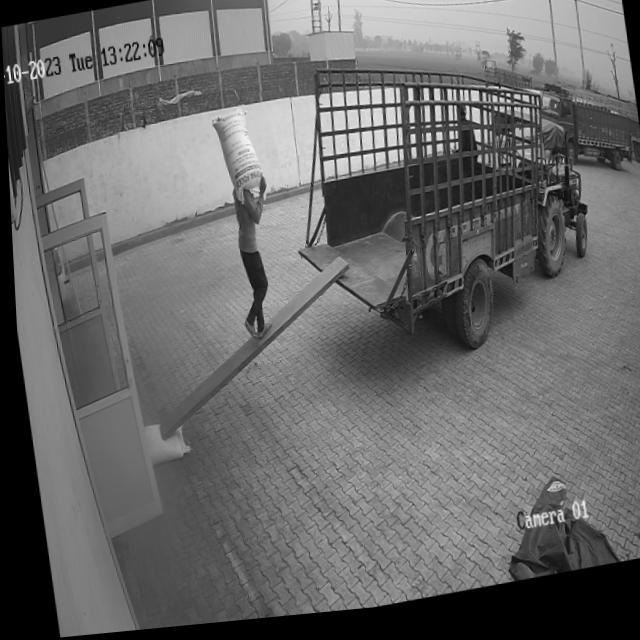sack: (209, 112, 261, 211), (138, 421, 186, 467)
